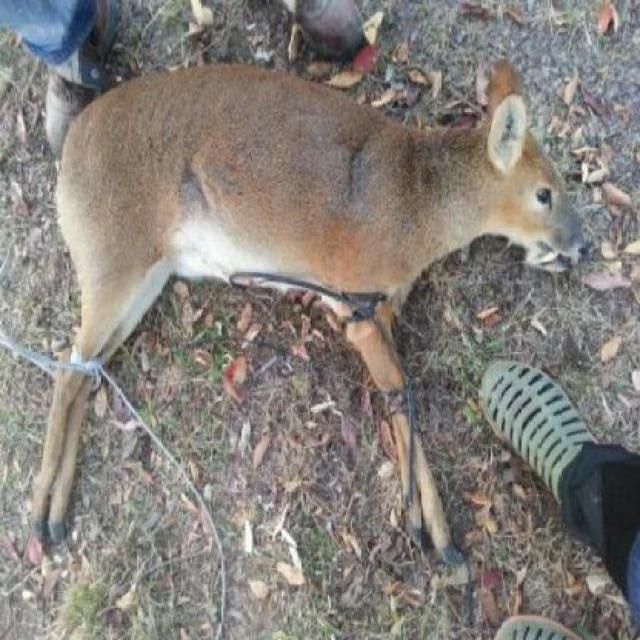deer: (28, 52, 584, 548)
